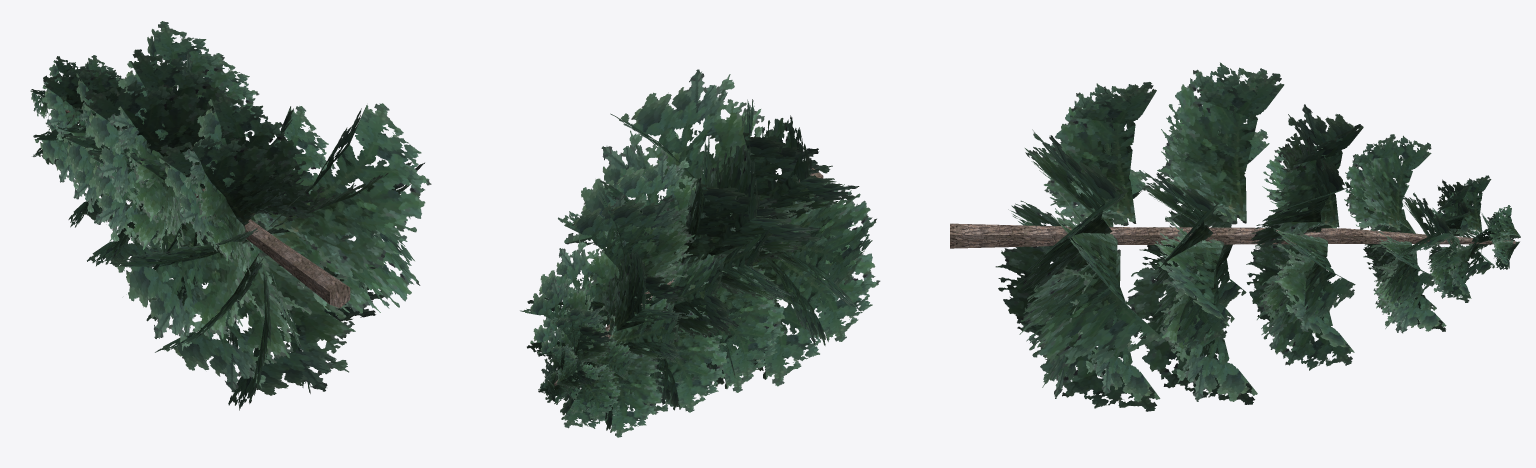
File: Norwegian Fir.fbx
3 views of the same model, side by side, from view 1: azimuth 30°, elevation 25°; view 2: azimuth 150°, elevation 25°; view 3: azimuth 270°, elevation 25° (orthographic). The views are drawn at different scales.
Visible parts, largest first — view 1: Norwegian Fir; view 2: Norwegian Fir; view 3: Norwegian Fir.
Boxes of the visible parts, x1,y1,x2,y2 form: Norwegian Fir: [30, 21, 431, 410]; Norwegian Fir: [520, 69, 880, 437]; Norwegian Fir: [950, 62, 1520, 411].
Size of the model in its own units: 3703 by 3710 by 4920.
Materials: 2 (2 with a texture image).
